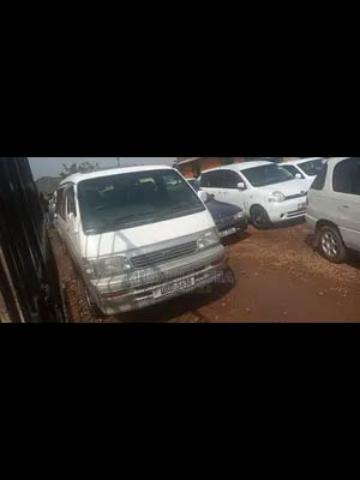car: (202, 161, 320, 221)
van: (52, 161, 228, 315)
